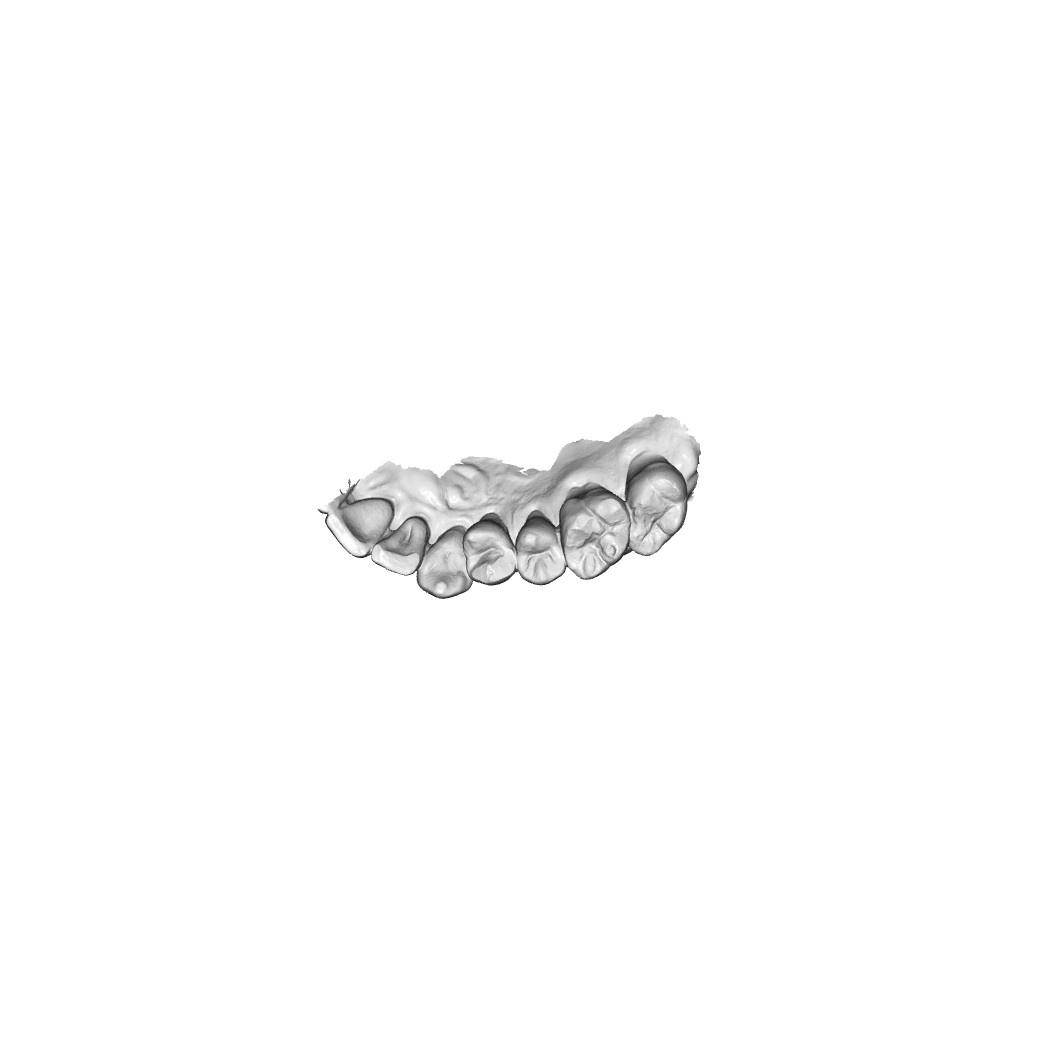canine: (413, 526, 473, 602)
incisor: (324, 495, 395, 559), (369, 516, 429, 579)
molar: (555, 483, 630, 581), (624, 460, 691, 557)
premolar: (514, 513, 568, 585), (461, 516, 516, 586)
